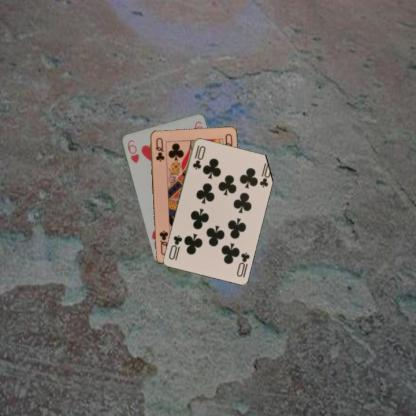10c: (189, 142, 207, 171), (234, 250, 251, 278)
6h: (124, 137, 140, 165)
Qc: (152, 135, 166, 163)
